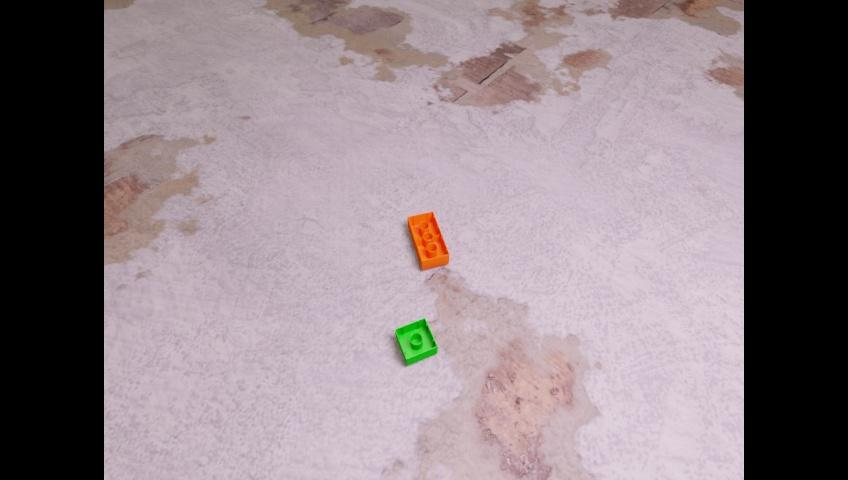2x2_green: (394, 317, 437, 365)
4x2_orange: (407, 210, 448, 269)
